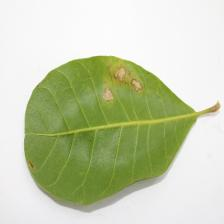leaf miner: (102, 64, 144, 107)
